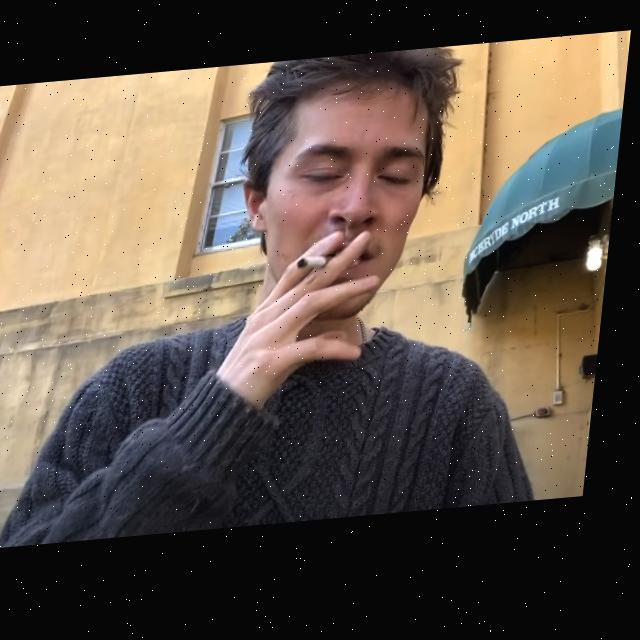cigarette: (300, 261, 336, 279)
